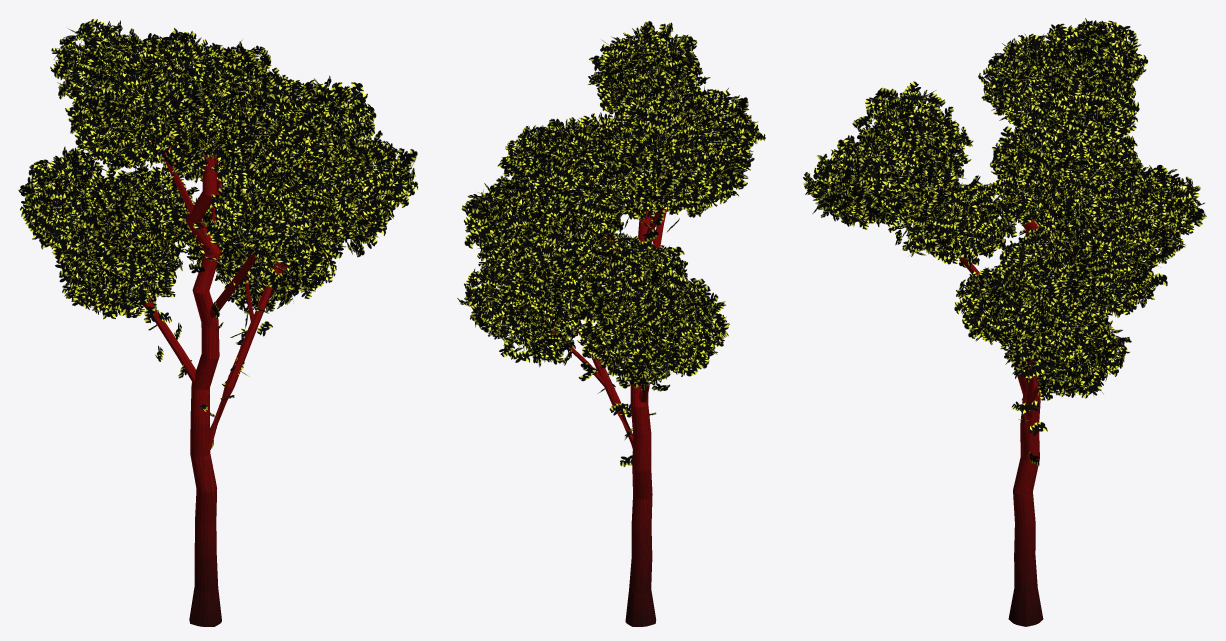
Rendered from cottonwood_river_v01.glb.
3 renders of one model, left to right at view 1: azimuth 30°, elevation 25°; view 2: azimuth 150°, elevation 25°; view 3: azimuth 270°, elevation 25°, orthographic. The views are drawn at different scales.
Visible parts, largest first — view 1: cottonwood_river_v01; view 2: cottonwood_river_v01; view 3: cottonwood_river_v01.
Part boxes in pixels (left/top/right/bottom): cottonwood_river_v01: left=18, top=19, right=418, bottom=626; cottonwood_river_v01: left=457, top=21, right=765, bottom=626; cottonwood_river_v01: left=803, top=18, right=1206, bottom=626.
Bounding box in the file's own units: 16.91 × 30.75 × 20.08.
Materials: 2 (2 with a texture image).
